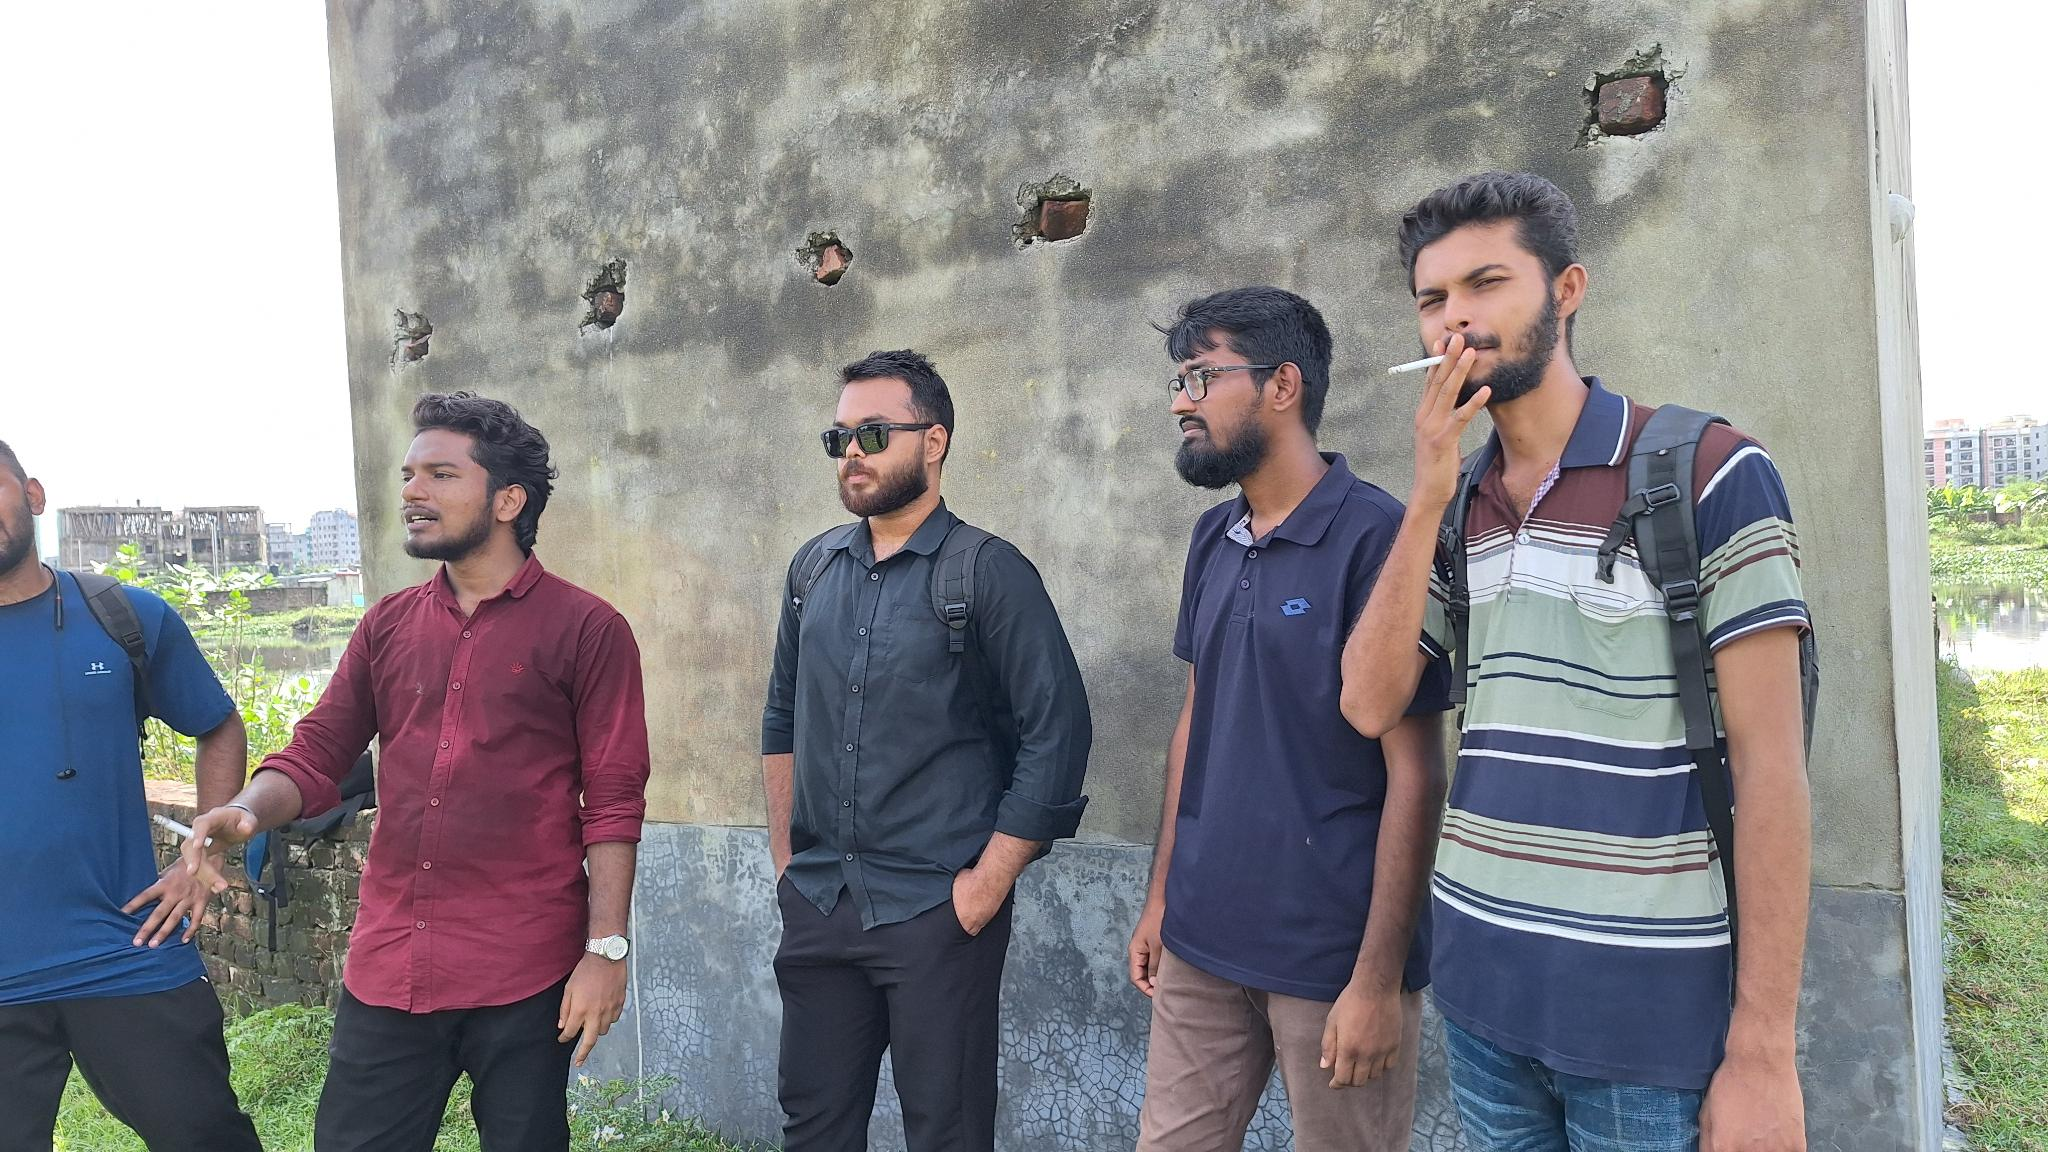cigarette: (151, 812, 217, 852), (1384, 352, 1447, 378)
nonSmoker: (1129, 286, 1453, 1152), (762, 347, 1092, 1152), (0, 437, 259, 1152)
smoker: (1336, 172, 1817, 1152), (179, 390, 651, 1152)
